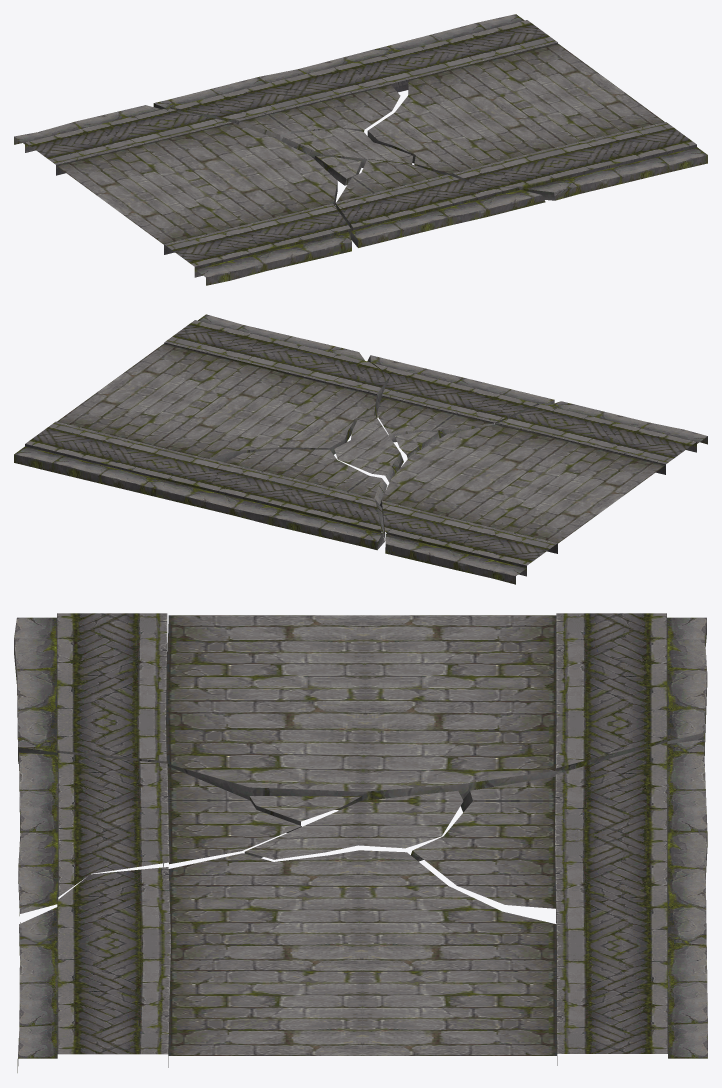
Rendered from 4009_Item_dimian_1.FBX.
The picture shows the model from 3 angles, top to bottom: view 1: azimuth 30°, elevation 25°; view 2: azimuth 150°, elevation 25°; view 3: azimuth 270°, elevation 25°; orthographic projection. The views are drawn at different scales.
Visible parts, largest first — view 1: 4009_Item_dimian_1; view 2: 4009_Item_dimian_1; view 3: 4009_Item_dimian_1.
Part boxes in pixels (left/top/right/bottom): 4009_Item_dimian_1: left=14, top=14, right=707, bottom=285; 4009_Item_dimian_1: left=14, top=314, right=707, bottom=584; 4009_Item_dimian_1: left=14, top=613, right=707, bottom=1072.
Bounding box in the file's own units: 973 × 648 × 25.41.
